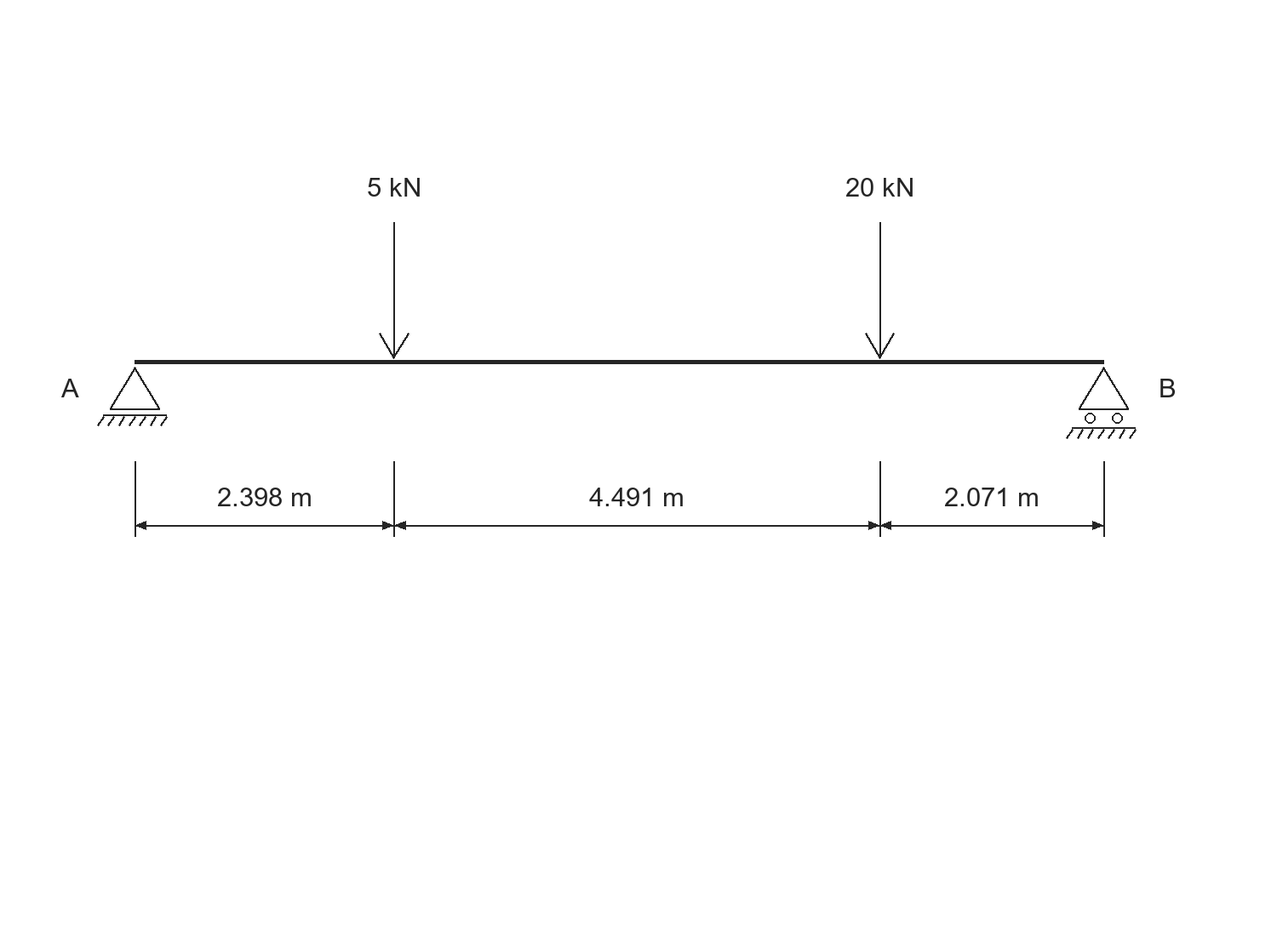pin_support: (97, 367, 168, 426)
point_load: (379, 222, 409, 359), (865, 222, 895, 359)
roller_support: (1066, 367, 1137, 439)
